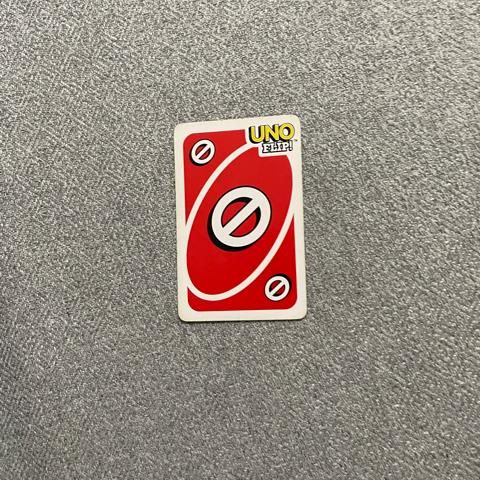lredskip-20: (181, 128, 224, 177)
